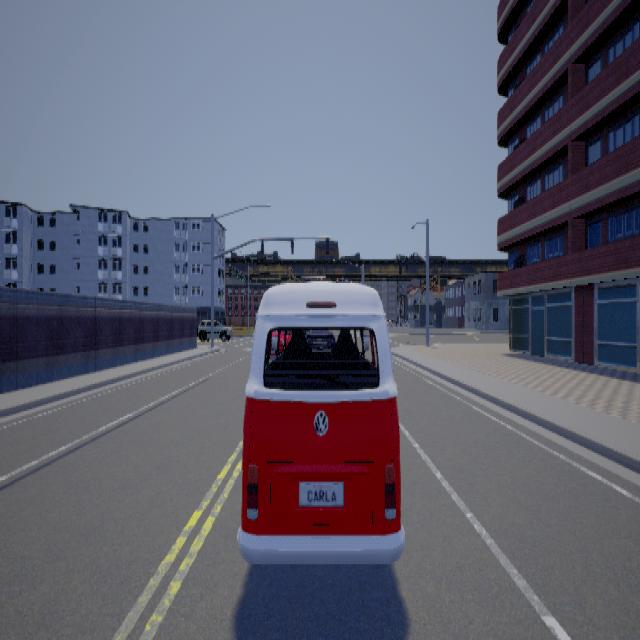vehicle: (236, 280, 404, 562), (196, 315, 233, 344)
